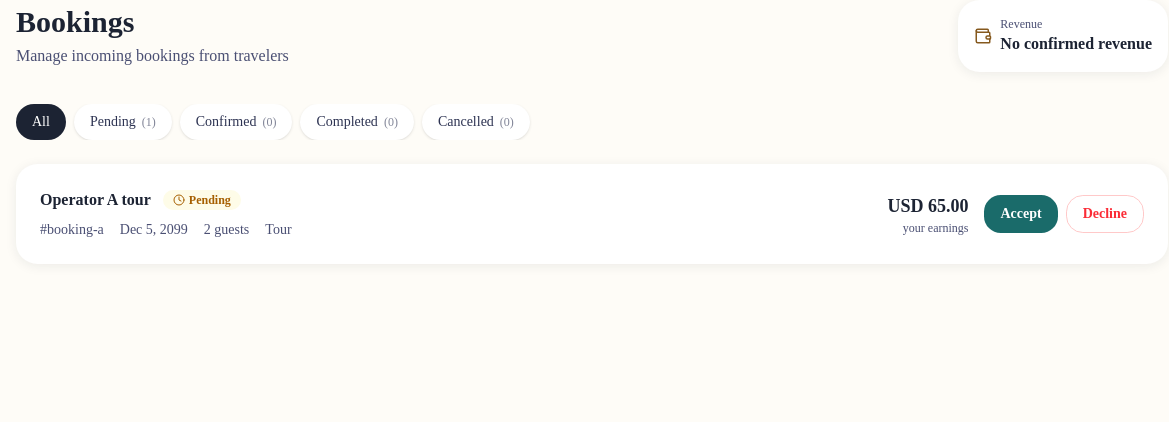
Test case: reloads authoritative status after an uncertain mutation and retains loaded rows if that read also fails
Click the button "Decline" at (1105, 214), box [1066,195,1144,233]
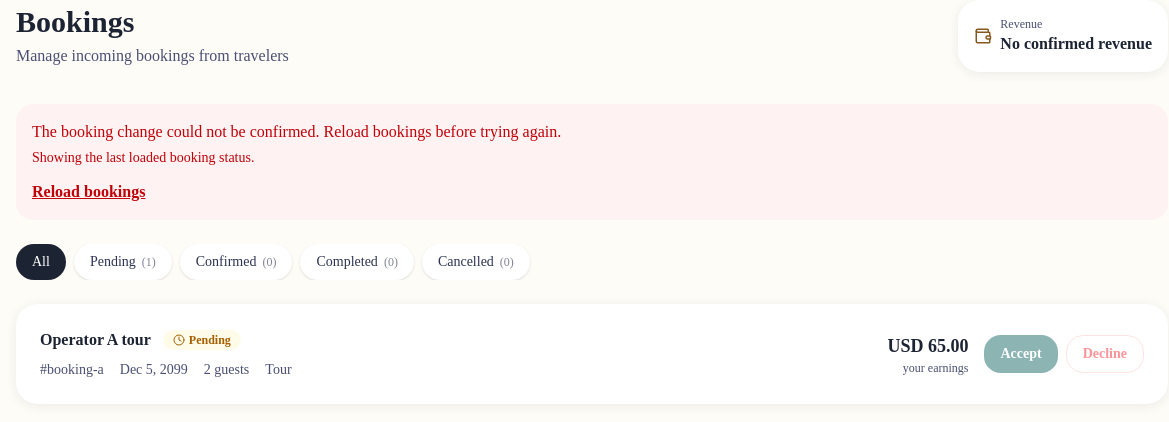
Now the button "Reload bookings" is shown
Click the button "Reload bookings" at (89, 192), box [32,180,145,204]
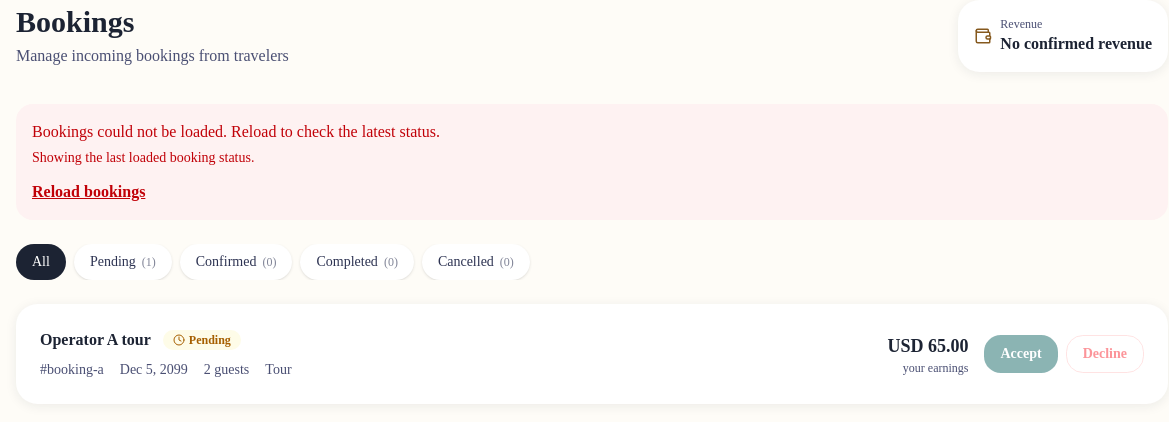
Now the button "Decline" is disabled, box [1066,335,1144,373]
Now the button "Reload bookings" is shown
Click the button "Reload bookings" at (89, 192), box [32,180,145,204]
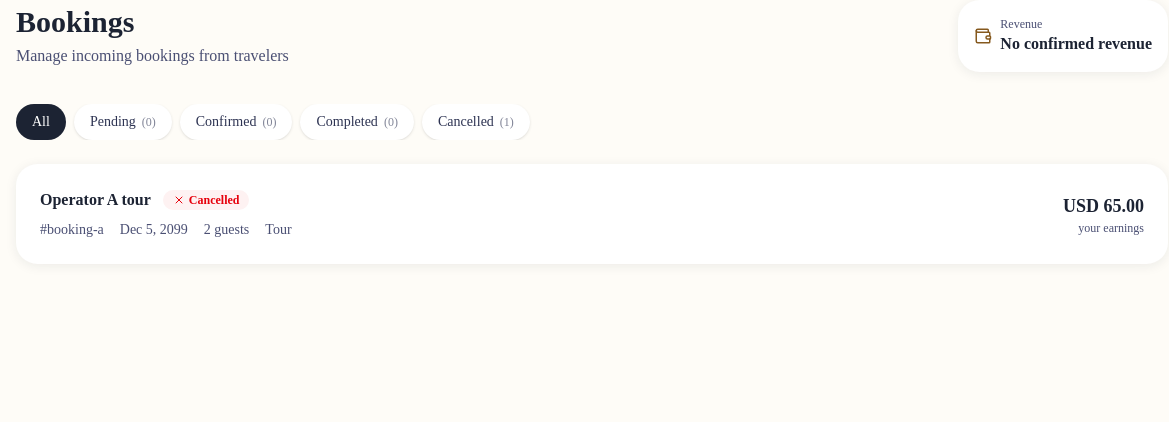
Now the message is gone
